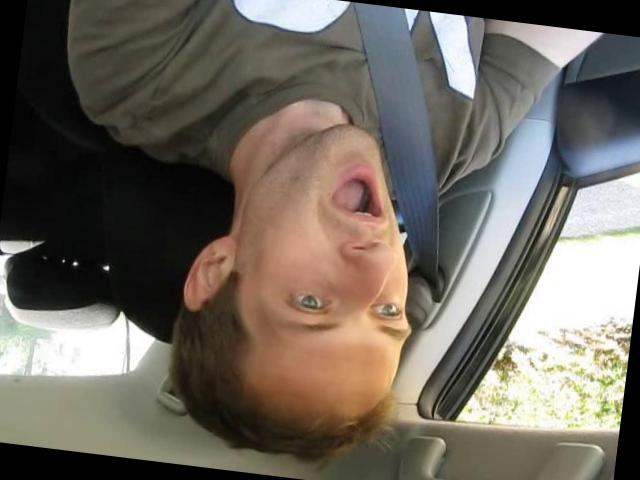eye_open: (278, 280, 336, 321), (370, 298, 406, 325)
face: (248, 116, 437, 364)
mouth_open: (322, 158, 394, 231)
